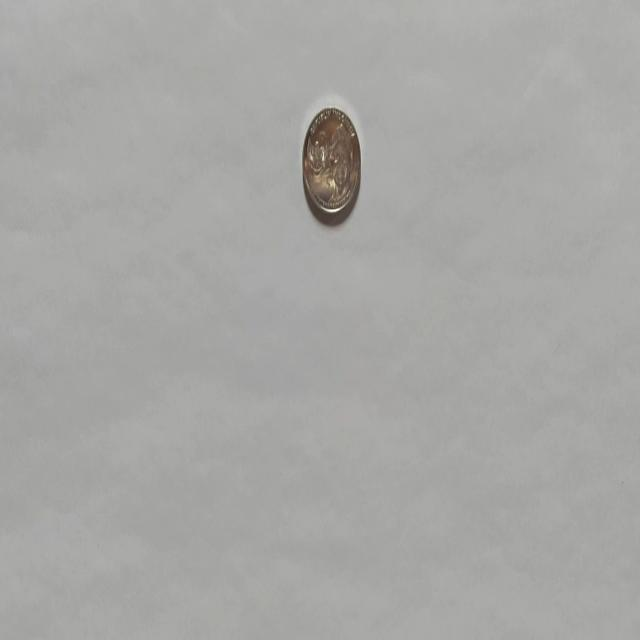dua ratus rupiah: (300, 105, 362, 219)
